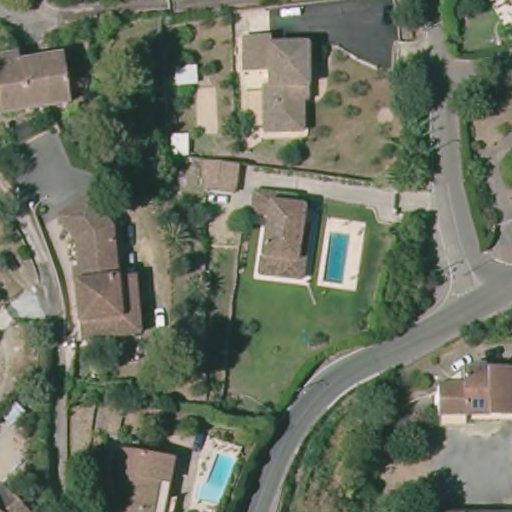pool: (319, 219, 359, 290), (196, 450, 234, 503)
